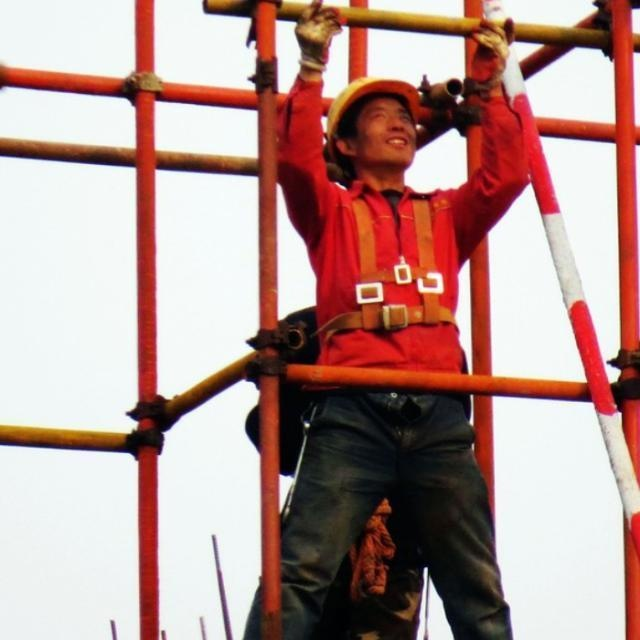Arnes_seguridad: (316, 178, 462, 351)
